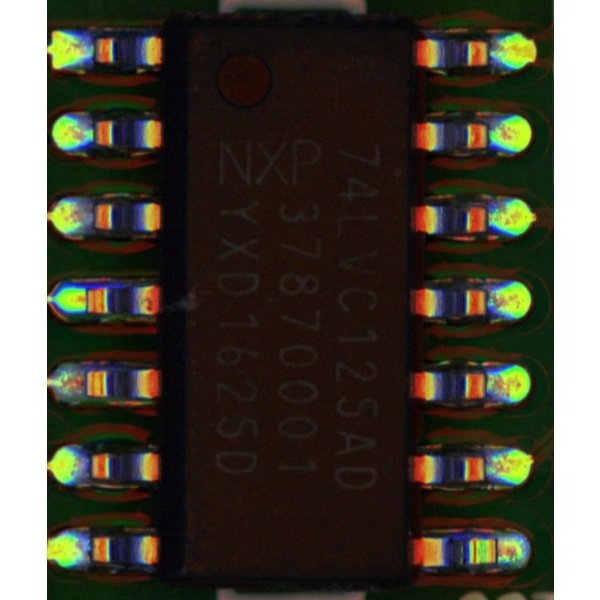Bad_podu: (481, 541, 514, 563), (76, 289, 92, 312)
